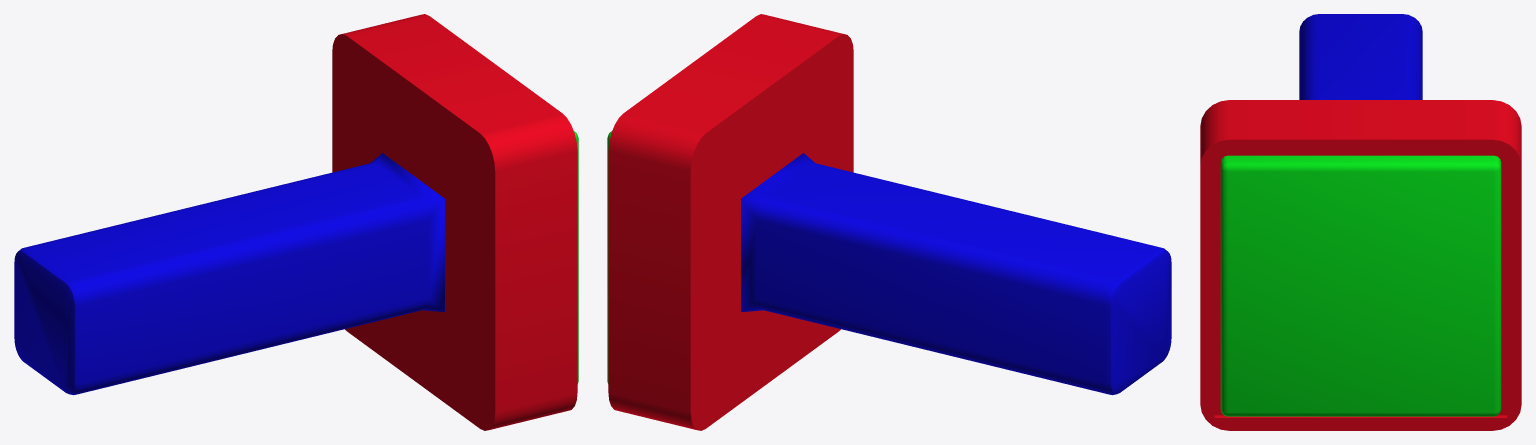
The model's file is PressMachine_Head.fbx.
3 renders of one model, left to right at view 1: azimuth 30°, elevation 25°; view 2: azimuth 150°, elevation 25°; view 3: azimuth 270°, elevation 25°, orthographic.
Visible parts, largest first — view 1: PressMachine_Head; view 2: PressMachine_Head; view 3: PressMachine_Head.
Boxes of the visible parts, left/top/right/bottom form: PressMachine_Head: left=14, top=14, right=578, bottom=430; PressMachine_Head: left=607, top=14, right=1171, bottom=430; PressMachine_Head: left=1200, top=14, right=1521, bottom=430.
Bounding box in the file's own units: 862 × 521 × 521.
